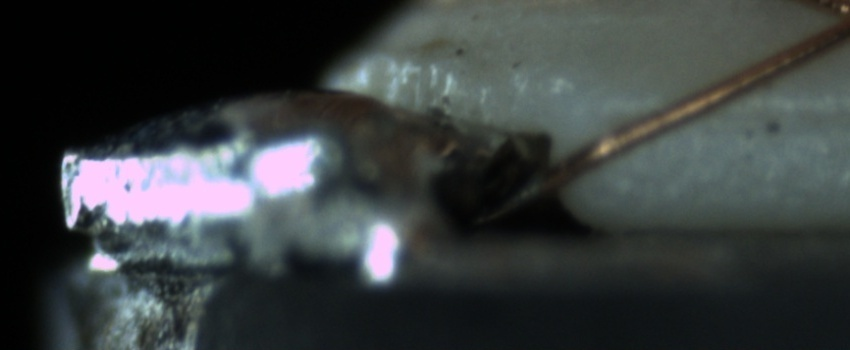CL: (811, 2, 849, 43)
DL: (697, 80, 850, 145)
